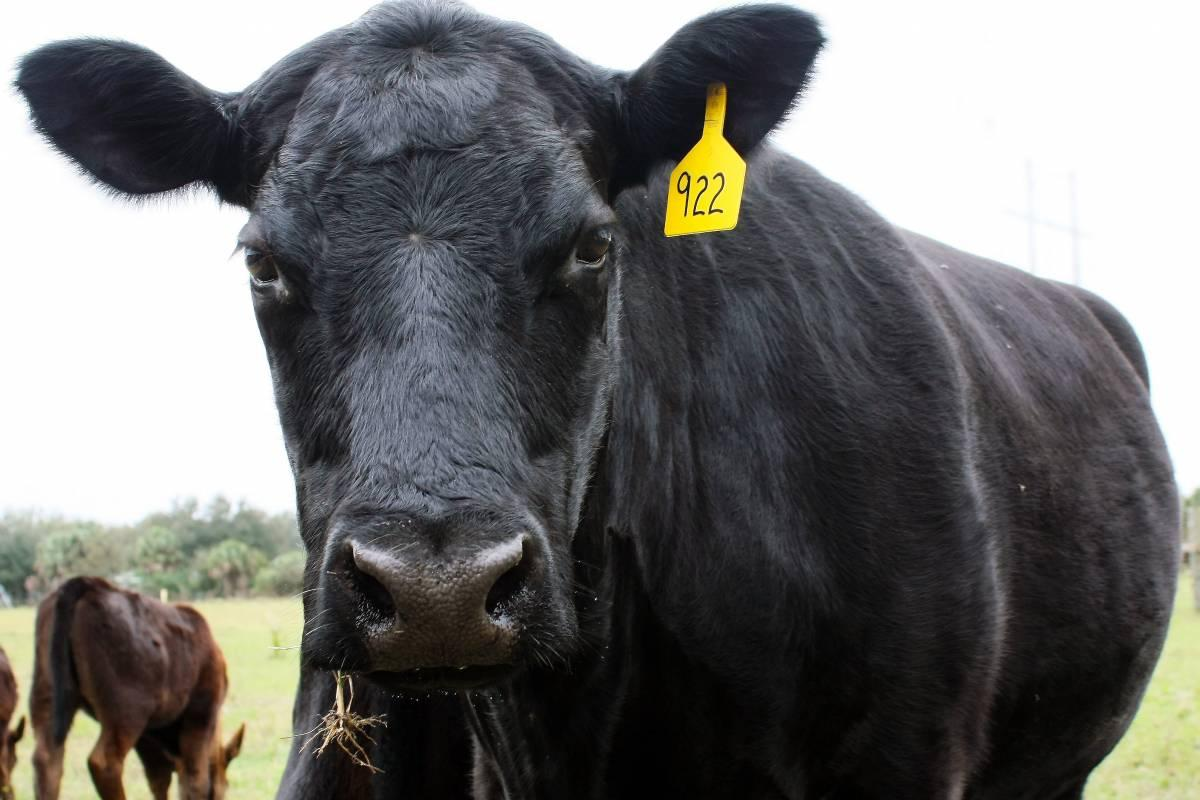muzzles: (277, 474, 620, 713)
